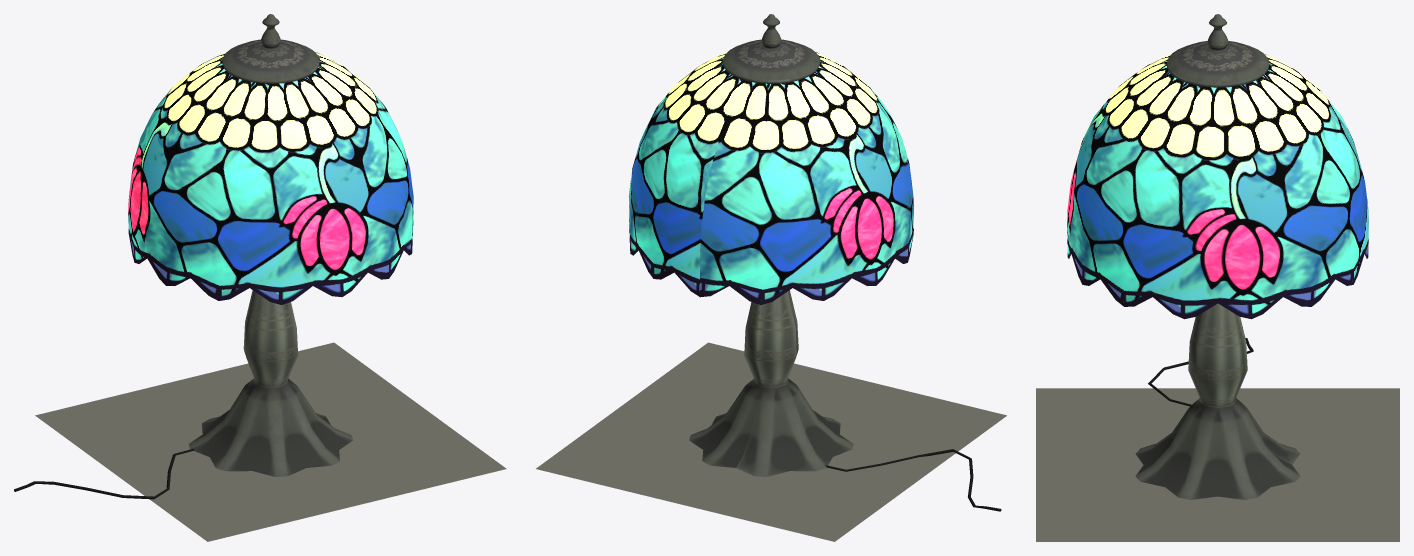
Rendered from lamp.glb.
The picture shows the model from 3 angles, left to right: view 1: azimuth 30°, elevation 25°; view 2: azimuth 150°, elevation 25°; view 3: azimuth 270°, elevation 25°; orthographic projection. The views are drawn at different scales.
Parts seen in each view (by area): view 1: lampglass, pPlane1, basemetal; view 2: lampglass, pPlane1, basemetal; view 3: lampglass, pPlane1, basemetal.
Boxes of the visible parts, box(x1,y1,x2,y2) form: lampglass: box(128, 51, 413, 304); pPlane1: box(35, 342, 506, 541); basemetal: box(14, 14, 353, 499); lampglass: box(628, 51, 914, 304); pPlane1: box(536, 342, 1006, 541); basemetal: box(689, 14, 1001, 511); lampglass: box(1067, 54, 1368, 319); pPlane1: box(1036, 388, 1399, 541); basemetal: box(1135, 14, 1300, 499).
Bounding box in the file's own units: 0.1161 × 0.1214 × 0.0885.
3 materials, 3 textured.
